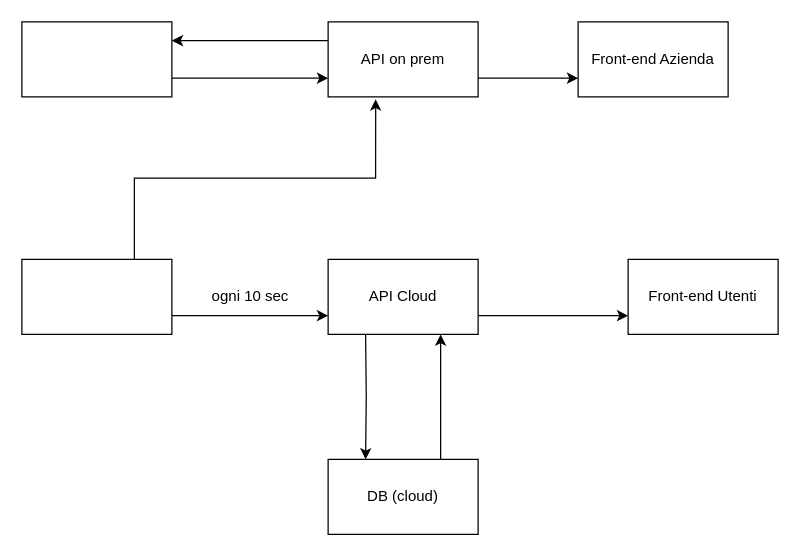
Image size: 800x556. Some labels were removed from this diagram. Here are the shapes that lost their labels. From the top down, the centre of each, then its label:
At (x=96, y=59): "DB (on prem)".
At (x=96, y=296): "Simulatore(i) Orologio".
